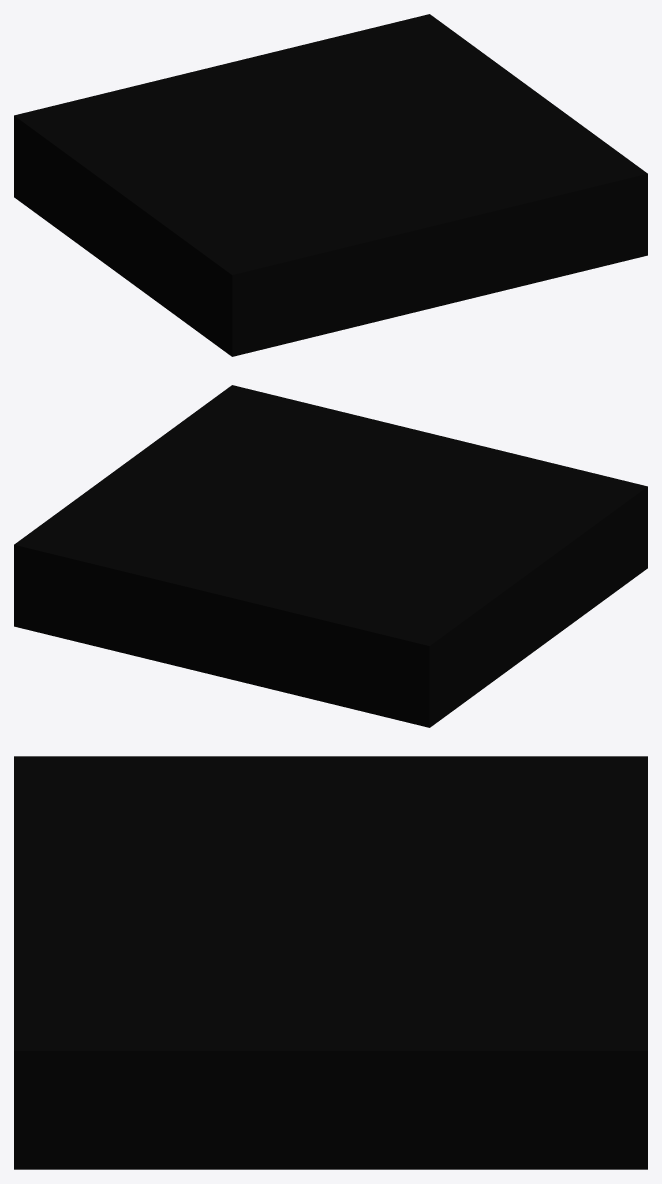
The model's file is Lava.glb.
The picture shows the model from 3 angles, top to bottom: view 1: azimuth 30°, elevation 25°; view 2: azimuth 150°, elevation 25°; view 3: azimuth 270°, elevation 25°; orthographic projection. The views are drawn at different scales.
Visible parts, largest first — view 1: Lava; view 2: Lava; view 3: Lava.
Boxes of the visible parts, left/top/right/bottom form: Lava: left=14, top=14, right=647, bottom=356; Lava: left=14, top=385, right=647, bottom=727; Lava: left=14, top=756, right=647, bottom=1169.
Bounding box in the file's own units: 1362 × 256 × 1238.
1 material, 1 textured.
